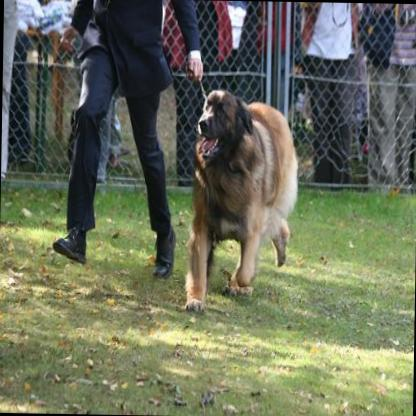Leonberg: (183, 86, 298, 311)
